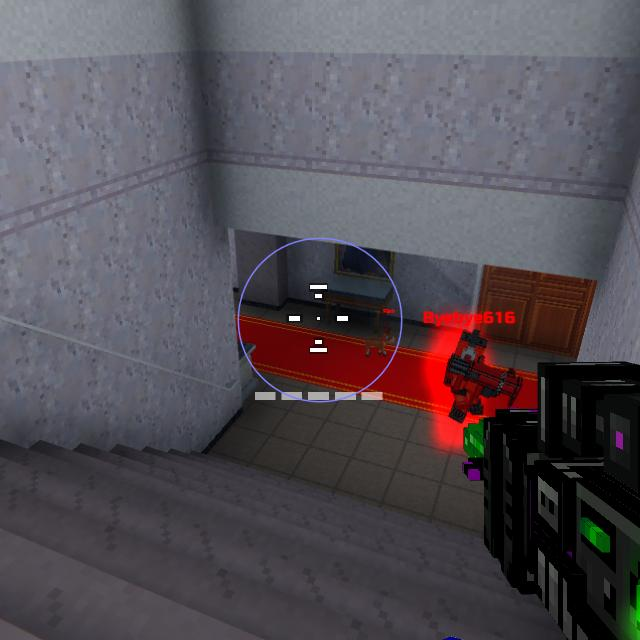Enemy: (440, 333, 489, 425)
